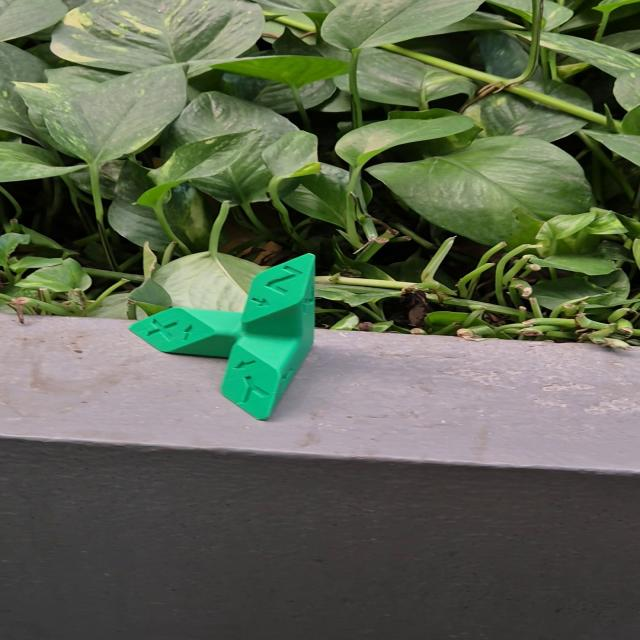objects: (126, 252, 317, 422)
